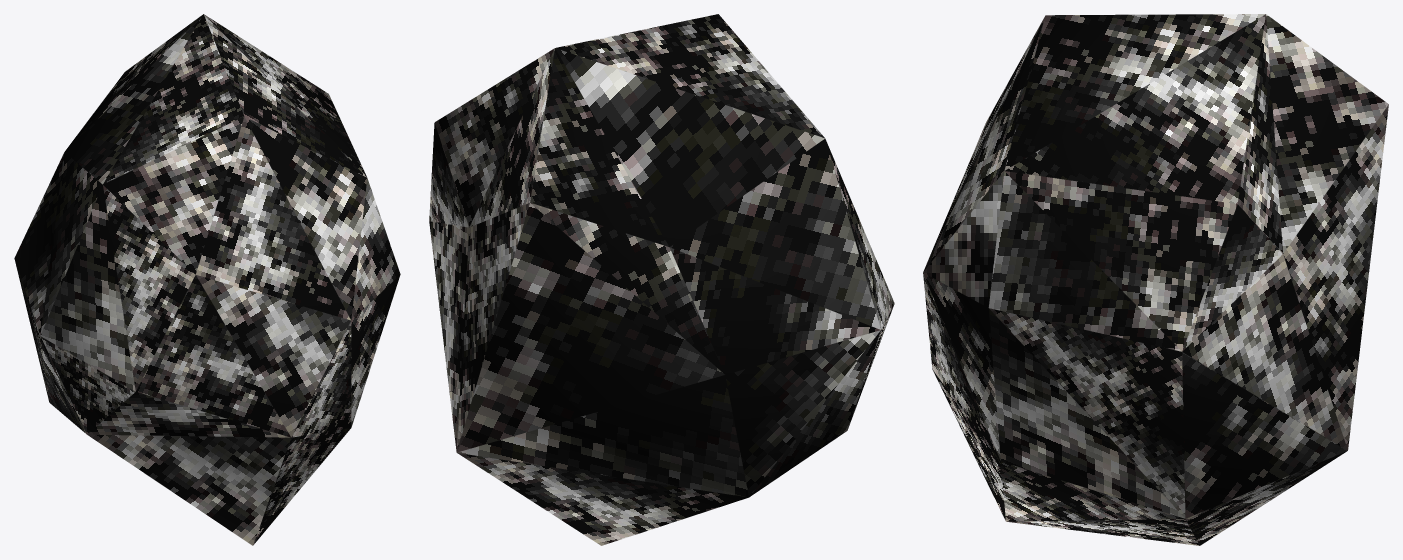
The model's file is grey asteroid.dae.
The picture shows the model from 3 angles, left to right: view 1: azimuth 30°, elevation 25°; view 2: azimuth 150°, elevation 25°; view 3: azimuth 270°, elevation 25°; orthographic projection. The views are drawn at different scales.
Visible parts, largest first — view 1: grey; view 2: grey; view 3: grey.
Part boxes in pixels (x1,y1,x2,y2): grey: (14,14,400,545); grey: (429,14,894,545); grey: (923,14,1388,545).
Size of the model in its own units: 370 by 432 by 336.
1 material, 1 textured.
